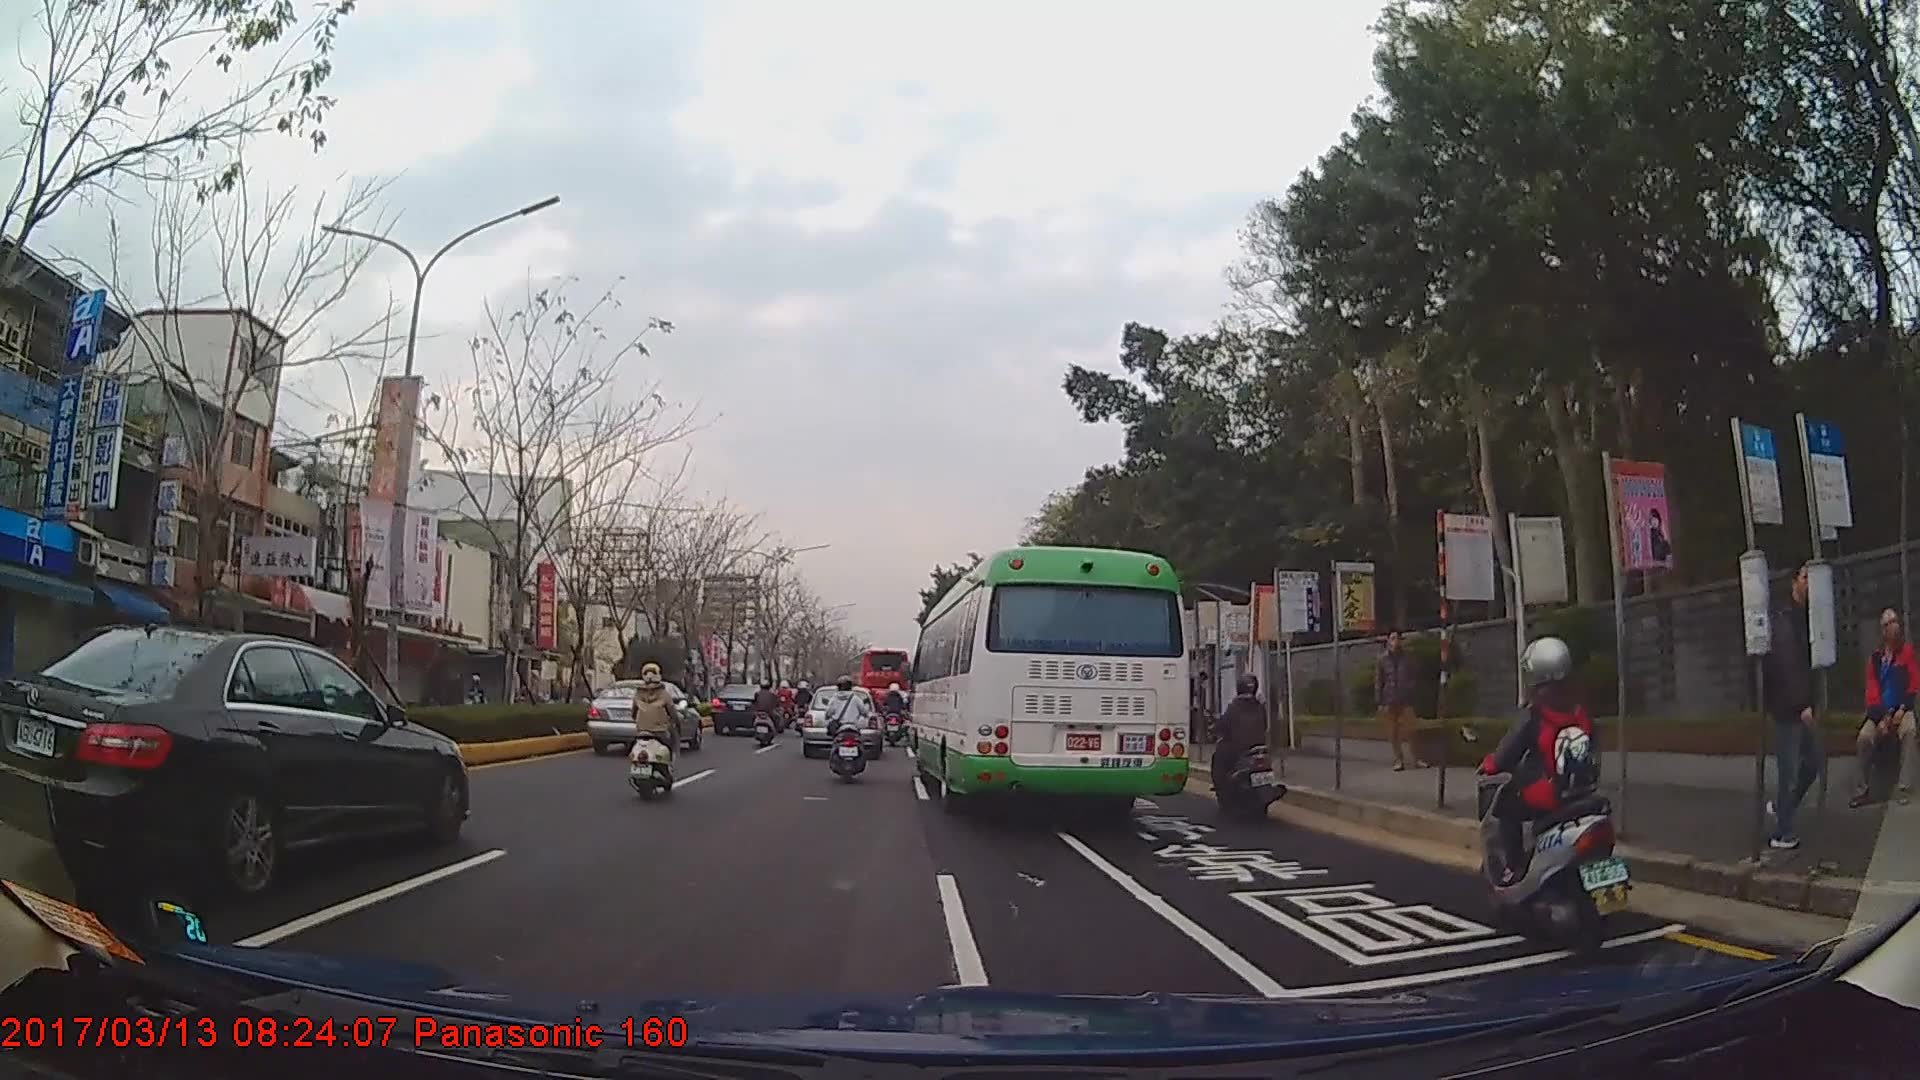pedestrian: (1766, 547, 1830, 856), (1855, 613, 1914, 804), (1375, 629, 1426, 771)
rider: (1472, 636, 1631, 936), (1202, 679, 1282, 823), (625, 667, 679, 802), (822, 679, 870, 784), (753, 680, 782, 751), (881, 682, 908, 736), (792, 679, 814, 725), (463, 674, 487, 706)
vehicle: (7, 623, 468, 892), (905, 545, 1190, 824), (585, 678, 702, 752), (801, 681, 879, 758), (844, 647, 911, 720), (710, 680, 780, 737)
